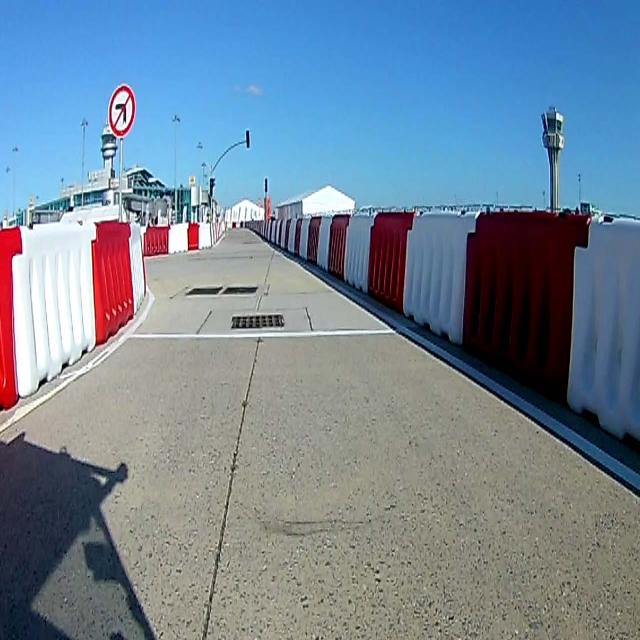soladonulmez: (108, 82, 138, 140)
